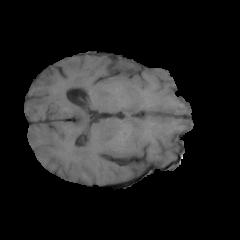glioma: (59, 56, 140, 117)
